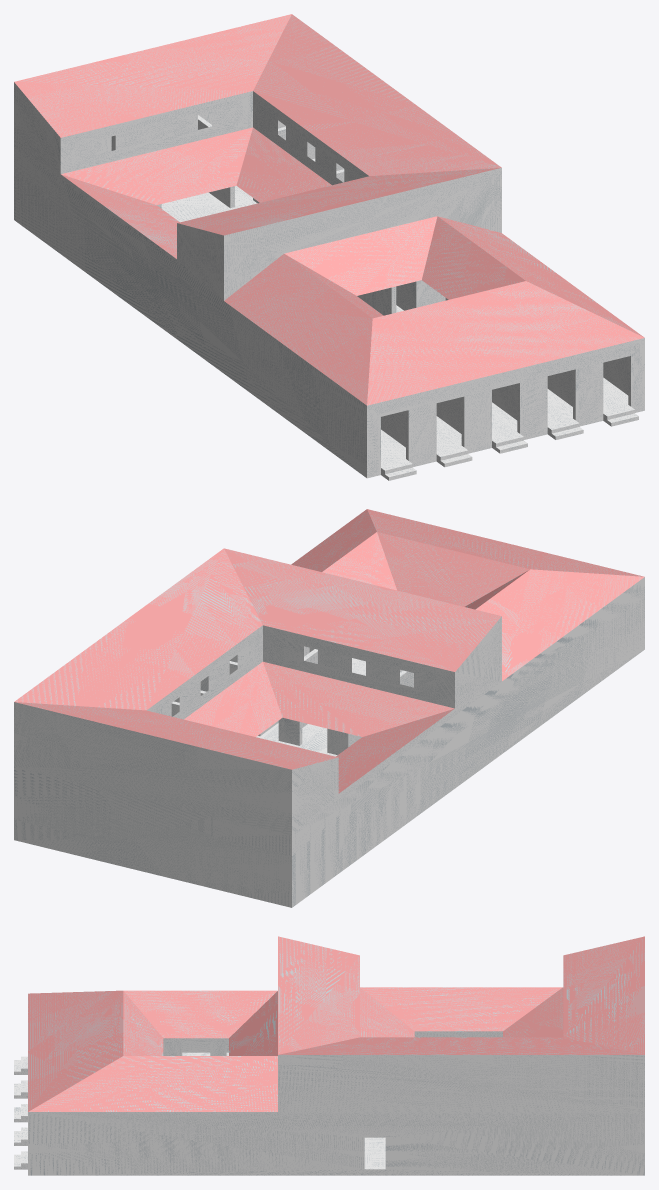
The model's file is villa6.fbx.
The picture shows the model from 3 angles, top to bottom: view 1: azimuth 30°, elevation 25°; view 2: azimuth 150°, elevation 25°; view 3: azimuth 270°, elevation 25°; orthographic projection. The views are drawn at different scales.
Parts seen in each view (by area): view 1: Material2, Material3.017, Material3.018, Material2.020, Material3, Material3.019, Material2.021, Material2.022, Material3.016, Material2.023, Material2.006; view 2: Material2, Material3.018, Material2.020, Material3.017, Material3, Material2.022, Material3.019, Material3.016, Material2.021, Material2.023, Material2.006, Material2.001; view 3: Material2, Material3.017, Material3.018, Material2.020, Material3, Material2.021, Material3.019, Material2.022, Material3.016, Material2.023.
Boxes of the visible parts, box(x1,y1,x2,y2) form: Material2: box(14, 112, 644, 480); Material3.017: box(224, 216, 644, 405); Material3.018: box(14, 14, 501, 235); Material2.020: box(14, 82, 501, 300); Material3: box(14, 112, 644, 480); Material3.019: box(61, 127, 331, 258); Material2.021: box(226, 216, 640, 405); Material2.022: box(21, 15, 499, 231); Material3.016: box(14, 84, 501, 299); Material2.023: box(62, 128, 331, 256); Material2.006: box(357, 286, 396, 315); Material2: box(14, 577, 644, 907); Material3.018: box(14, 548, 501, 769); Material2.020: box(14, 616, 501, 834); Material3.017: box(291, 509, 644, 680); Material3: box(14, 585, 644, 907); Material2.022: box(16, 550, 500, 767); Material3.019: box(184, 661, 454, 793); Material3.016: box(14, 619, 501, 834); Material2.021: box(293, 511, 640, 677); Material2.023: box(184, 663, 453, 791); Material2.006: box(278, 649, 317, 745); Material2.001: box(327, 675, 365, 754); Material2: box(14, 1031, 644, 1175); Material3.017: box(28, 990, 277, 1111); Material3.018: box(278, 936, 644, 1054); Material2.020: box(278, 1055, 644, 1111); Material3: box(14, 1031, 644, 1175); Material2.021: box(28, 990, 277, 1111); Material3.019: box(360, 987, 563, 1037); Material2.022: box(278, 937, 644, 1054); Material3.016: box(278, 1055, 644, 1111); Material2.023: box(360, 987, 562, 1037).
Size of the model in its own units: 48000 by 22800 by 108000.
